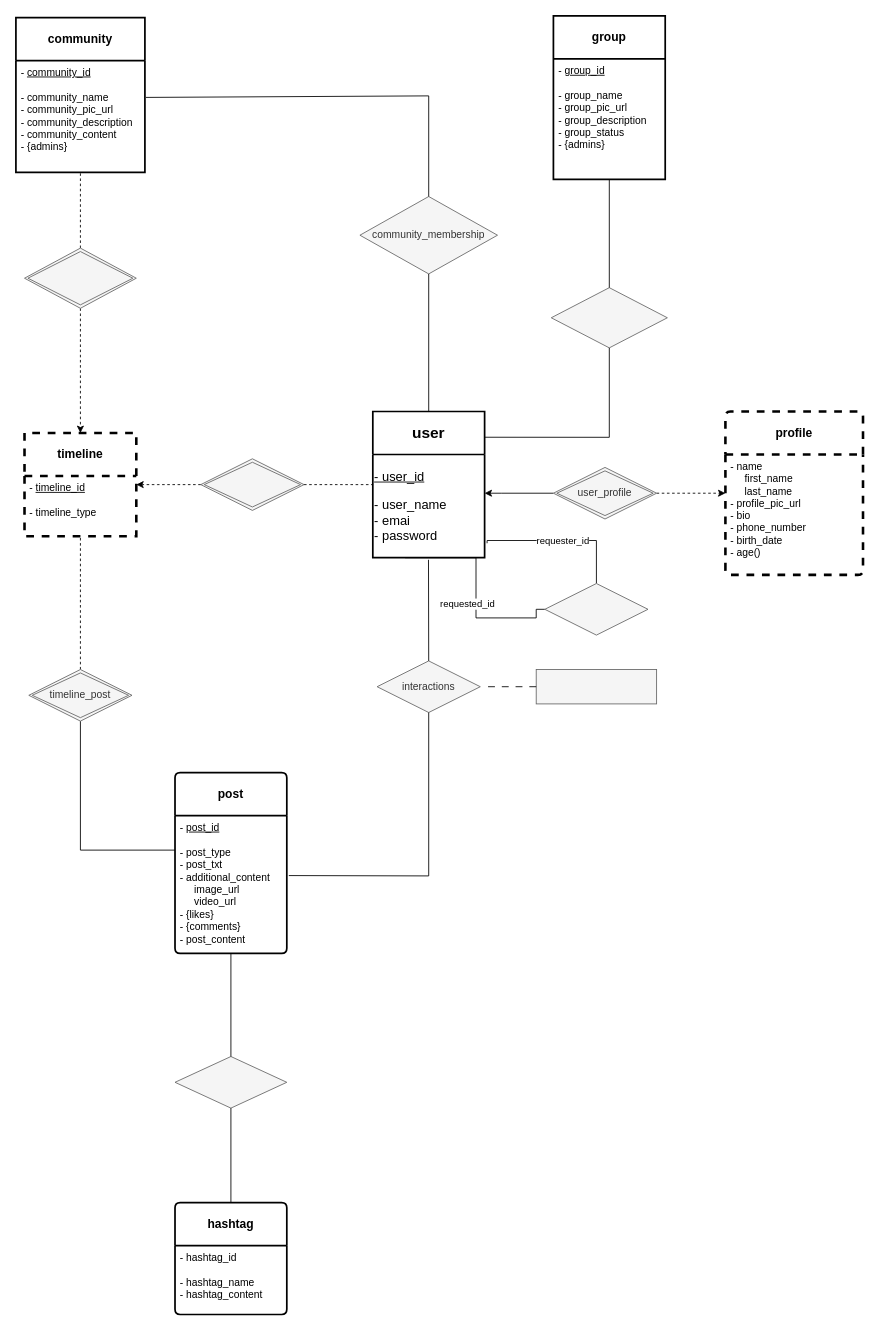
The diagram is 879 pixels wide and 1330 high, and some of its shapes have lost their labels. Here are the shapes that lost their labels. From the top down, the centre of each, then its label:
At [80,277]: "community_timeline".
At [608,317]: "group_membership".
At [252,484]: "user_timeline".
At [596,609]: "friend_requests".
At [596,686]: "interaction_type interaction_time".
At [230,1082]: "post_hashtag".
